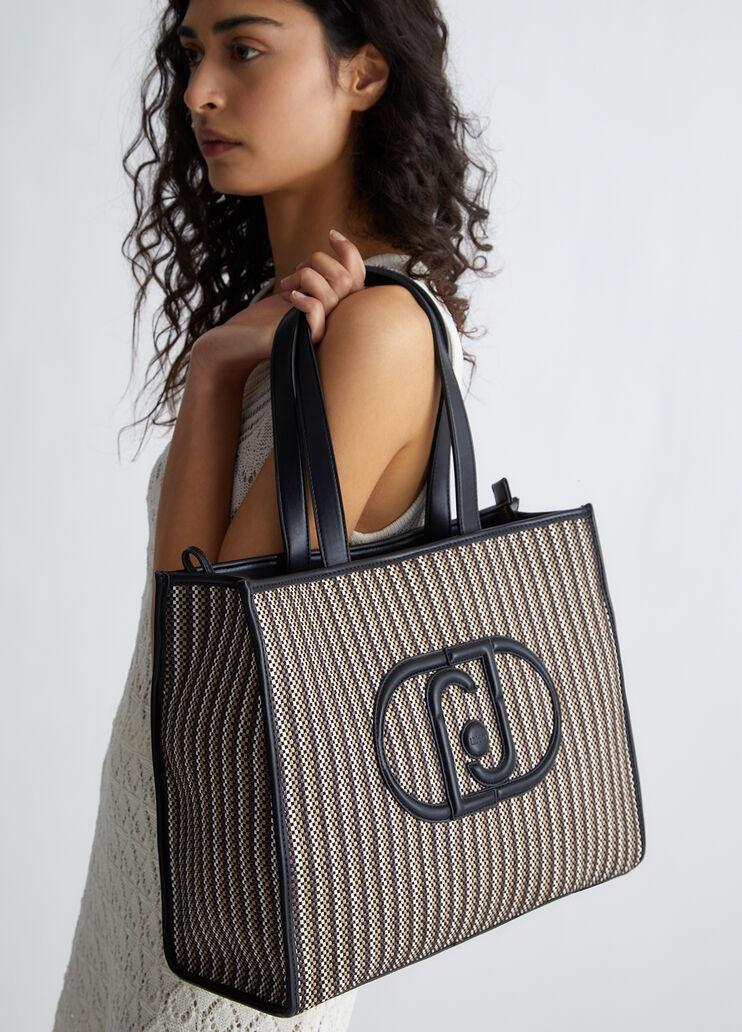LIU-JO: (425, 635, 518, 821)
